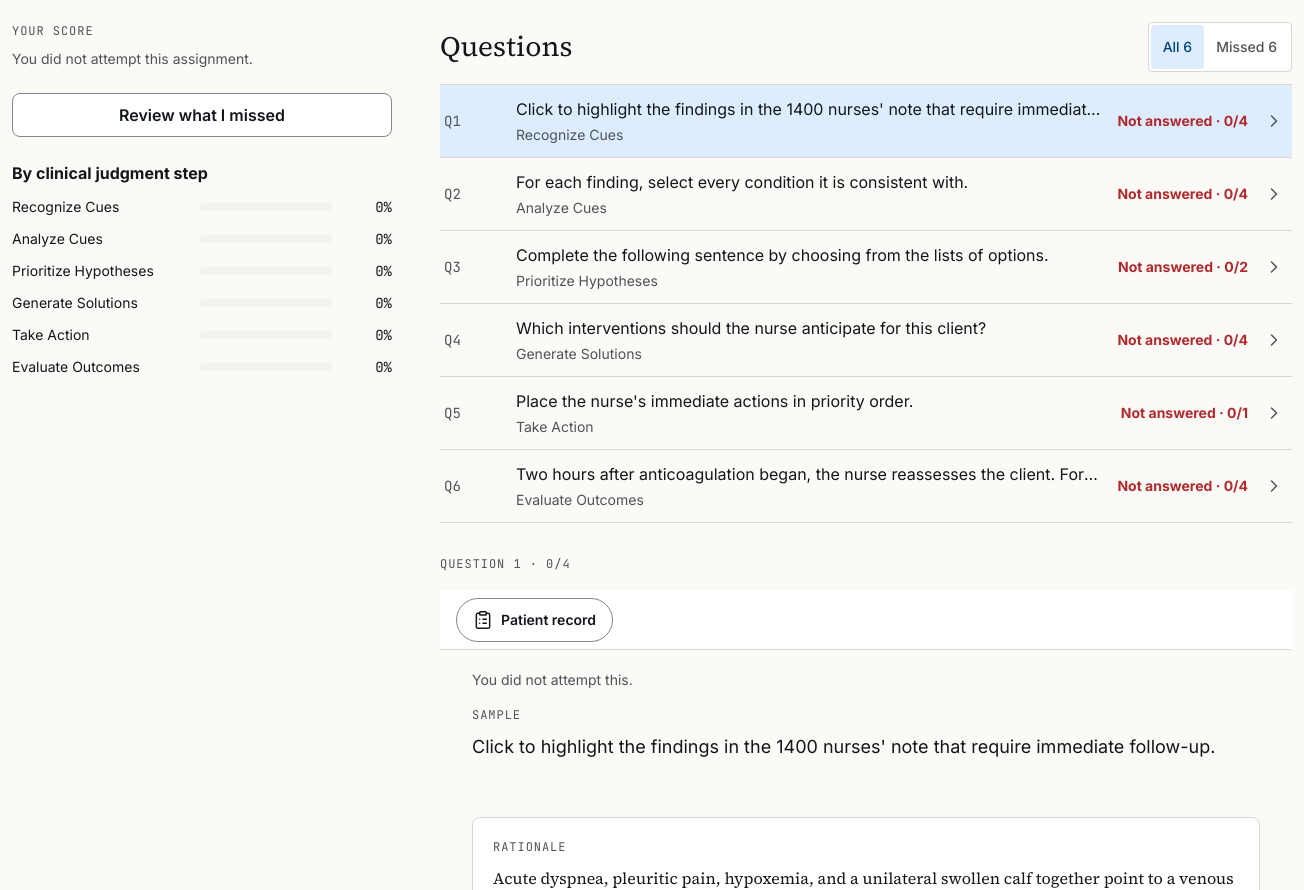
Scenario: AssignmentResults › a case study: the patient record beside every step's key
The image size is (1304, 890).
Click the button with aria-label "Q6, Two hours after anticoagulation began, the nurse reasses" at (866, 486), box [440,450,1292,522]
(page scrolled)
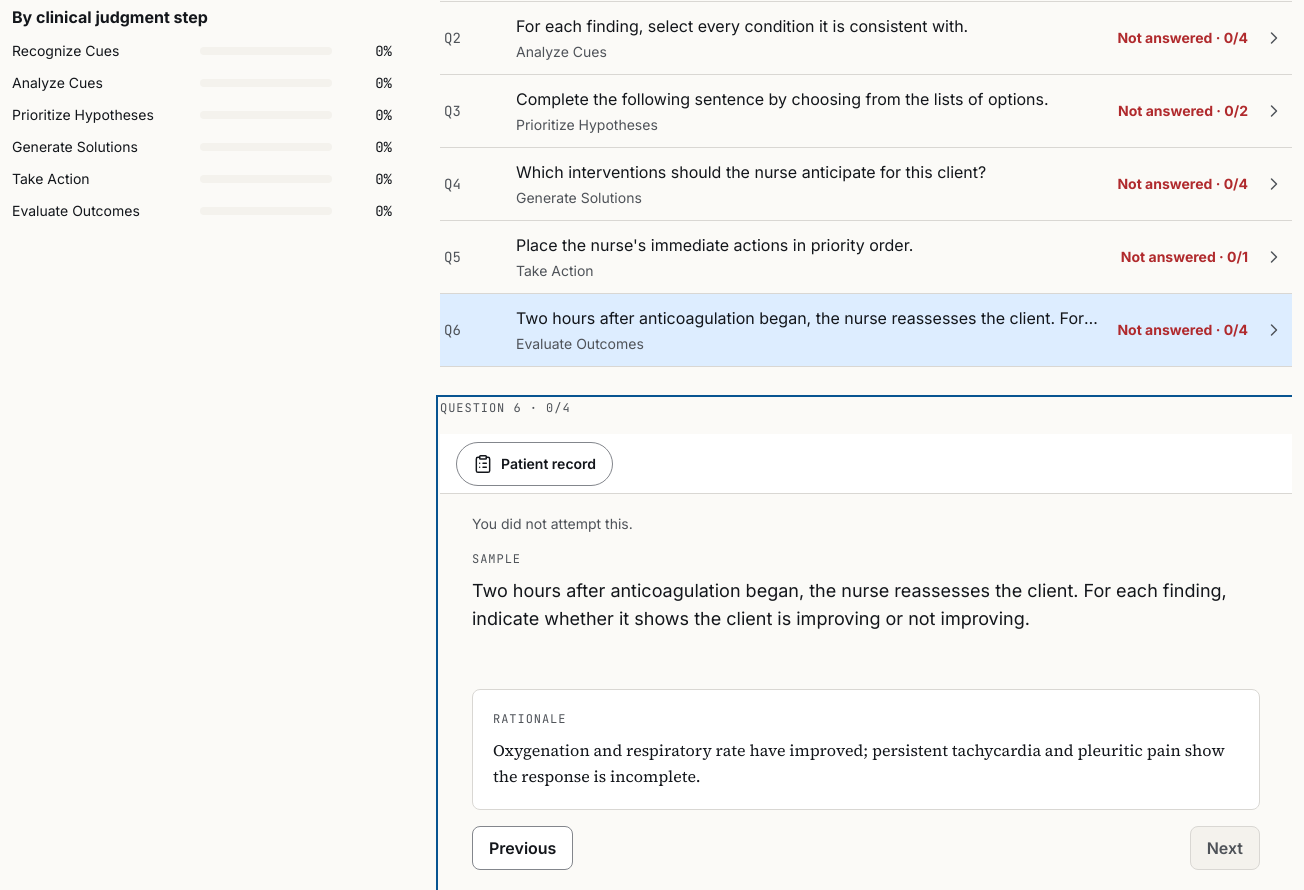
expect the text "Oxygenation and respiratory rate have improved; persistent tachycardia and pleuritic pain show the response is incomplet" is shown: met, box [493,739,1225,787]
